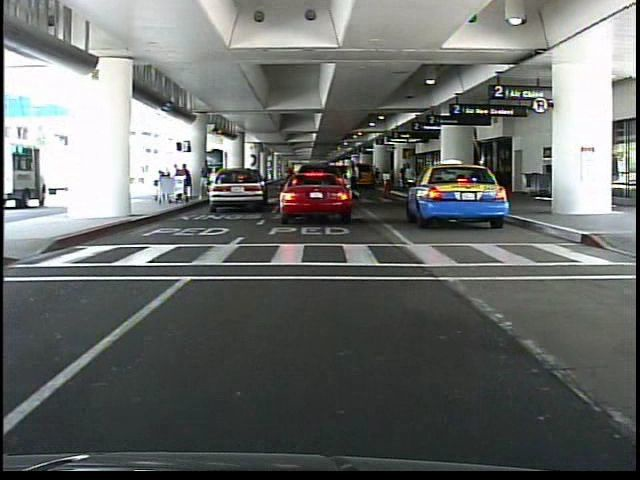person: (405, 165, 419, 199), (398, 160, 410, 196), (334, 168, 344, 201), (283, 160, 296, 181), (203, 161, 213, 186), (357, 159, 358, 201)
